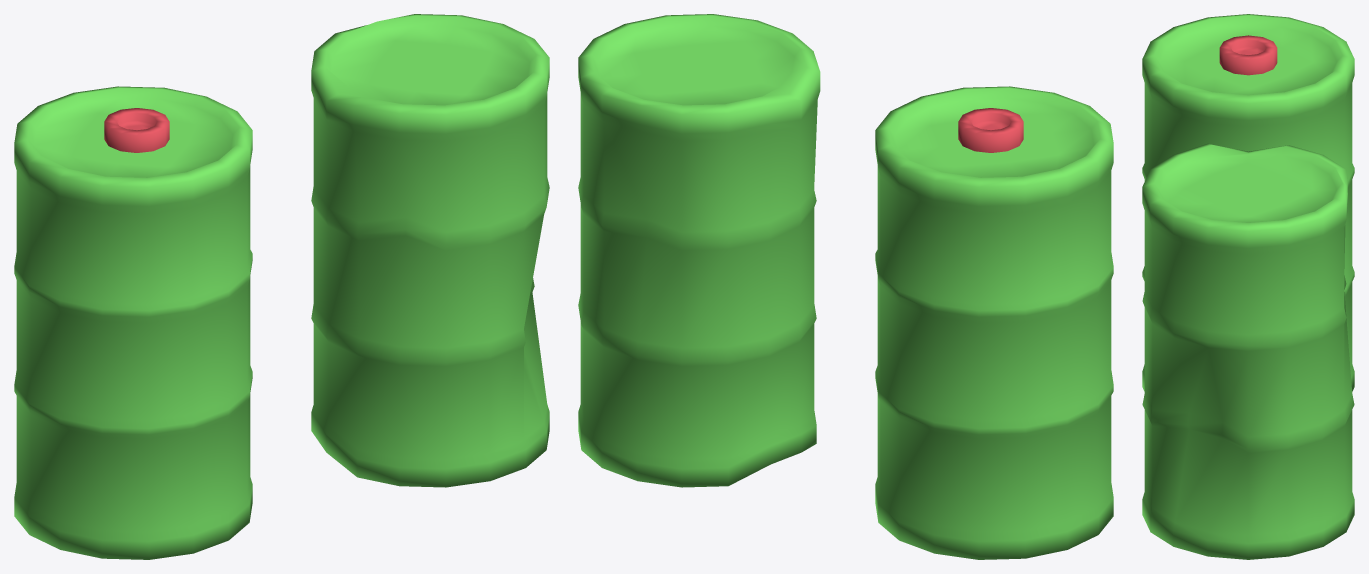
Rendered from Barrel_low.fbx.
3 renders of one model, left to right at view 1: azimuth 30°, elevation 25°; view 2: azimuth 150°, elevation 25°; view 3: azimuth 270°, elevation 25°, orthographic. The views are drawn at different scales.
Visible parts, largest first — view 1: Cylinder.001, Cylinder, Cylinder.003; view 2: Cylinder.001, Cylinder, Cylinder.003; view 3: Cylinder.001, Cylinder, Cylinder.003.
Boxes of the visible parts, x1=… form: Cylinder.001: x1=311, y1=14, x2=549, y2=487; Cylinder: x1=14, y1=86, x2=252, y2=559; Cylinder.003: x1=104, y1=108, x2=169, y2=152; Cylinder.001: x1=578, y1=14, x2=820, y2=487; Cylinder: x1=875, y1=86, x2=1113, y2=559; Cylinder.003: x1=958, y1=108, x2=1023, y2=152; Cylinder.001: x1=1142, y1=143, x2=1354, y2=559; Cylinder: x1=1142, y1=14, x2=1354, y2=391; Cylinder.003: x1=1219, y1=35, x2=1277, y2=75.
Bounding box in the file's own units: 264 × 195 × 109.
